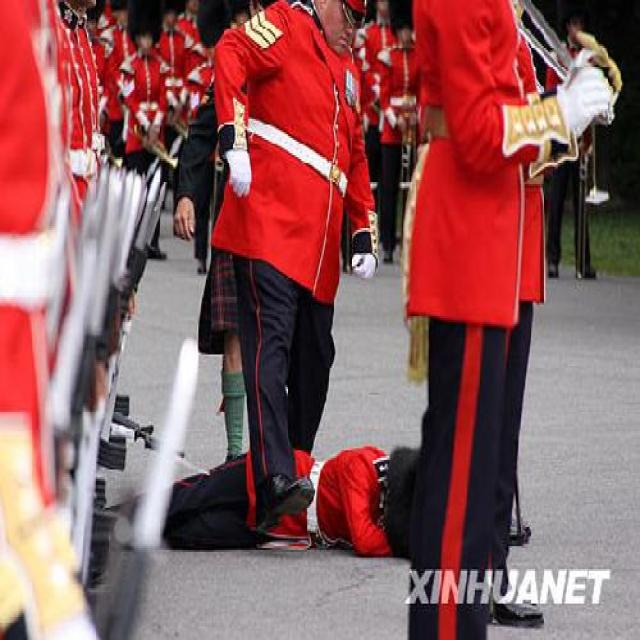10-: (1, 2, 635, 632)
down: (105, 416, 439, 559)
